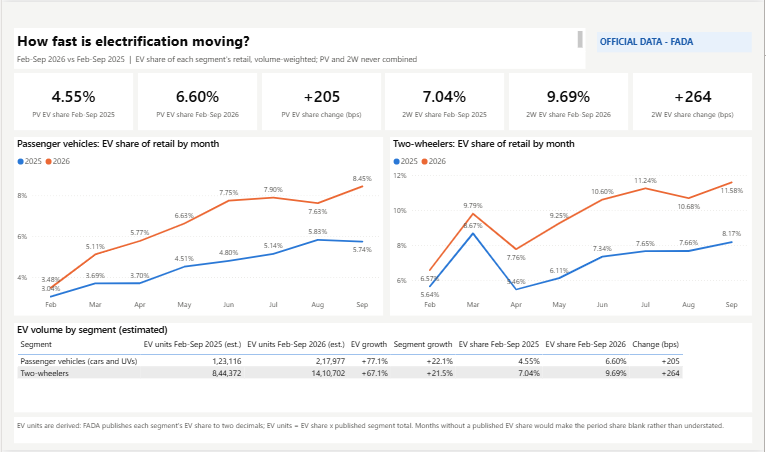

Layout of this report page (visuals, bound fields, positions):
{"tool":"powerbi","page":{"name":"EV Analytics","canvas":[1280,720],"ordinal":2},"visuals":[{"type":"textbox","box":[20,10,960,40],"z":1000},{"type":"textbox","box":[20,48,960,30],"z":2000},{"type":"textbox","box":[1000,16,260,34],"z":3000},{"type":"card","fields":{"Values":["_Measures.EV Share PP %"]},"box":[20,86,200,96],"z":4000},{"type":"card","fields":{"Values":["_Measures.EV Share CP %"]},"box":[228,86,200,96],"z":5000},{"type":"card","fields":{"Values":["_Measures.EV Share Change bps"]},"box":[436,86,200,96],"z":6000},{"type":"card","fields":{"Values":["_Measures.EV Share PP %"]},"box":[644,86,200,96],"z":7000},{"type":"card","fields":{"Values":["_Measures.EV Share CP %"]},"box":[852,86,200,96],"z":8000},{"type":"card","fields":{"Values":["_Measures.EV Share Change bps"]},"box":[1060,86,200,96],"z":9000},{"type":"lineChart","title":"Passenger vehicles: EV share of retail by month","fields":{"Category":["DimDate.MonthShortName"],"Series":["DimDate.YearNumber"],"Y":["_Measures.EV Share %"]},"box":[20,194,620,300],"z":10000},{"type":"lineChart","title":"Two-wheelers: EV share of retail by month","fields":{"Category":["DimDate.MonthShortName"],"Series":["DimDate.YearNumber"],"Y":["_Measures.EV Share %"]},"box":[652,194,608,300],"z":11000},{"type":"tableEx","title":"EV volume by segment (estimated)","fields":{"Values":["DimVehicleSegment.SegmentName","_Measures.EV Registrations PP (Est.)","_Measures.EV Registrations CP (Est.)","_Measures.EV Registrations Growth % (Est.)","_Measures.Market YoY Growth % (Period)","_Measures.EV Share PP %","_Measures.EV Share CP %","_Measures.EV Share Change bps"]},"box":[20,506,1240,150],"z":12000},{"type":"textbox","box":[20,664,1240,44],"z":13000}]}

Visuals, with their boxes on the page's 1280x720 design canvas (x1, y1, x2, y2). These are canvas units, not pixel positions in the 766x452 screenshot, which may show the page scaled, cropped or inside an application window:
textbox: l=20, t=10, r=980, b=50
textbox: l=20, t=48, r=980, b=78
textbox: l=1000, t=16, r=1260, b=50
card - _Measures.EV Share PP %: l=20, t=86, r=220, b=182
card - _Measures.EV Share CP %: l=228, t=86, r=428, b=182
card - _Measures.EV Share Change bps: l=436, t=86, r=636, b=182
card - _Measures.EV Share PP %: l=644, t=86, r=844, b=182
card - _Measures.EV Share CP %: l=852, t=86, r=1052, b=182
card - _Measures.EV Share Change bps: l=1060, t=86, r=1260, b=182
"Passenger vehicles: EV share of retail by month" lineChart: l=20, t=194, r=640, b=494
"Two-wheelers: EV share of retail by month" lineChart: l=652, t=194, r=1260, b=494
"EV volume by segment (estimated)" tableEx: l=20, t=506, r=1260, b=656
textbox: l=20, t=664, r=1260, b=708
